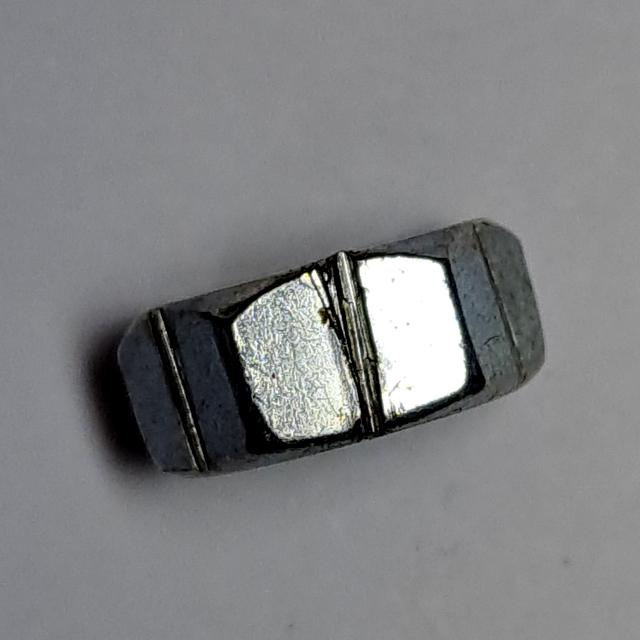Side_Scratches: (111, 209, 561, 491)
